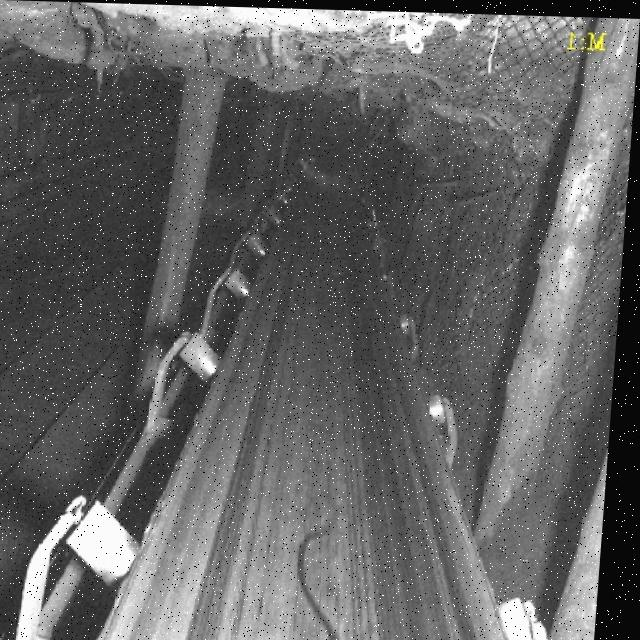bolt: (298, 528, 360, 640)
